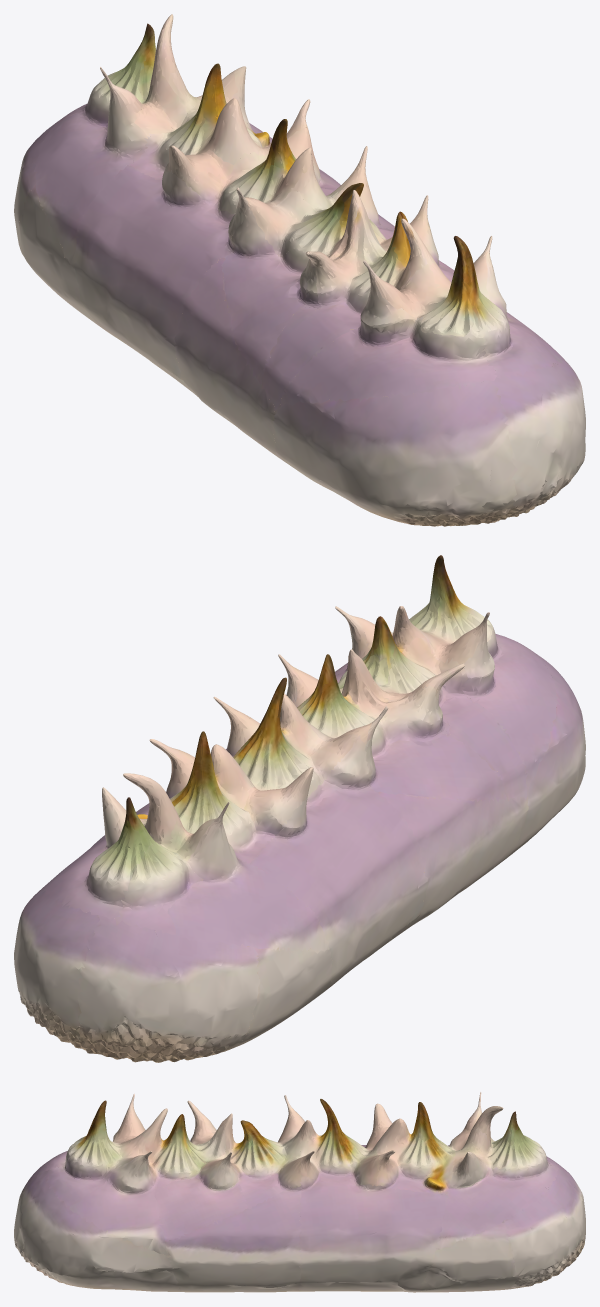
File: 06_4_yellowdot_eclair2_sculpture-opt-v30.glb
The picture shows the model from 3 angles, top to bottom: view 1: azimuth 30°, elevation 25°; view 2: azimuth 150°, elevation 25°; view 3: azimuth 270°, elevation 25°; orthographic projection. The views are drawn at different scales.
Parts seen in each view (by area): view 1: exlair2.001; view 2: exlair2.001; view 3: exlair2.001.
Boxes of the visible parts, x1,y1,x2,y2 form: exlair2.001: [14, 14, 585, 526]; exlair2.001: [14, 555, 585, 1062]; exlair2.001: [14, 1092, 585, 1292].
Bounding box in the file's own units: 0.0428 × 0.0398 × 0.125.
1 material, 1 textured.
